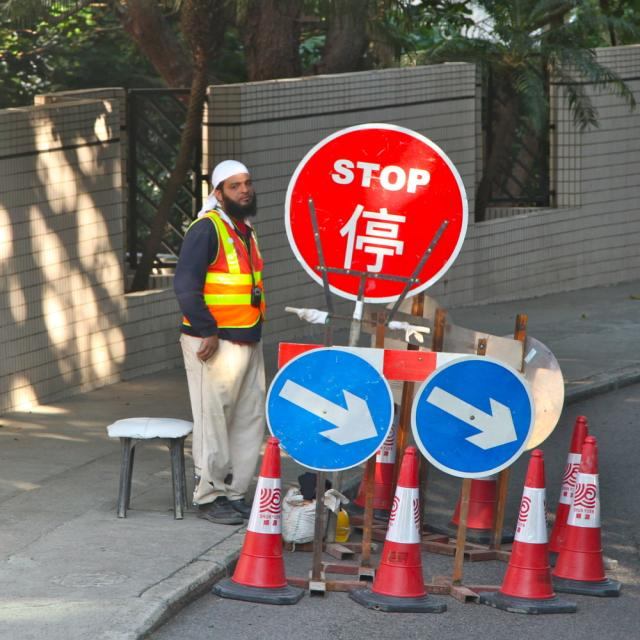Stop-sign: (282, 123, 469, 304)
